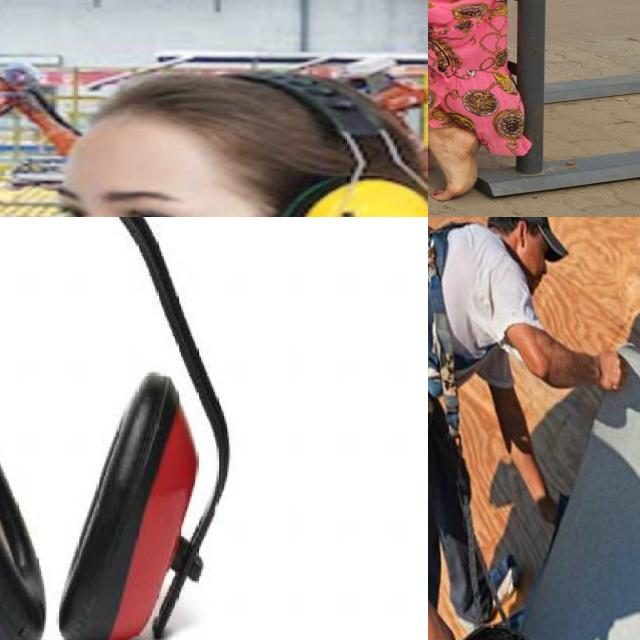Barefoots: (432, 129, 482, 201)
Ear-protection: (0, 217, 227, 640), (49, 60, 428, 217)
Harness: (428, 223, 477, 438)
No_Glasses: (44, 176, 229, 217)
